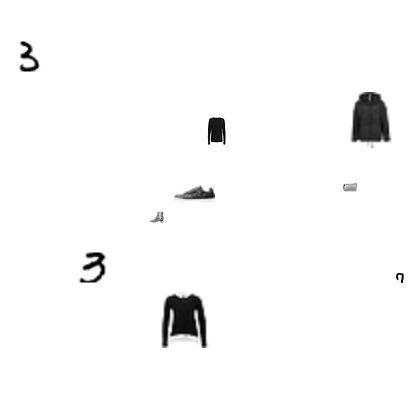3: (7, 37, 49, 79), (73, 245, 115, 287)
7: (393, 270, 407, 284)
Ankle_boot: (150, 210, 164, 224)
Bag: (343, 180, 357, 194)
Coat: (343, 92, 399, 148)
Pullover: (202, 117, 230, 145)
Shirt: (156, 292, 212, 348)
Sneaker: (173, 172, 215, 214)
